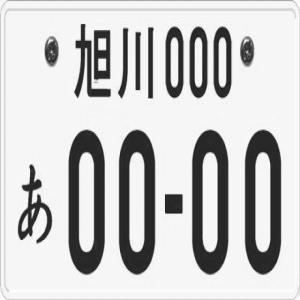Plate: (1, 1, 300, 298)
